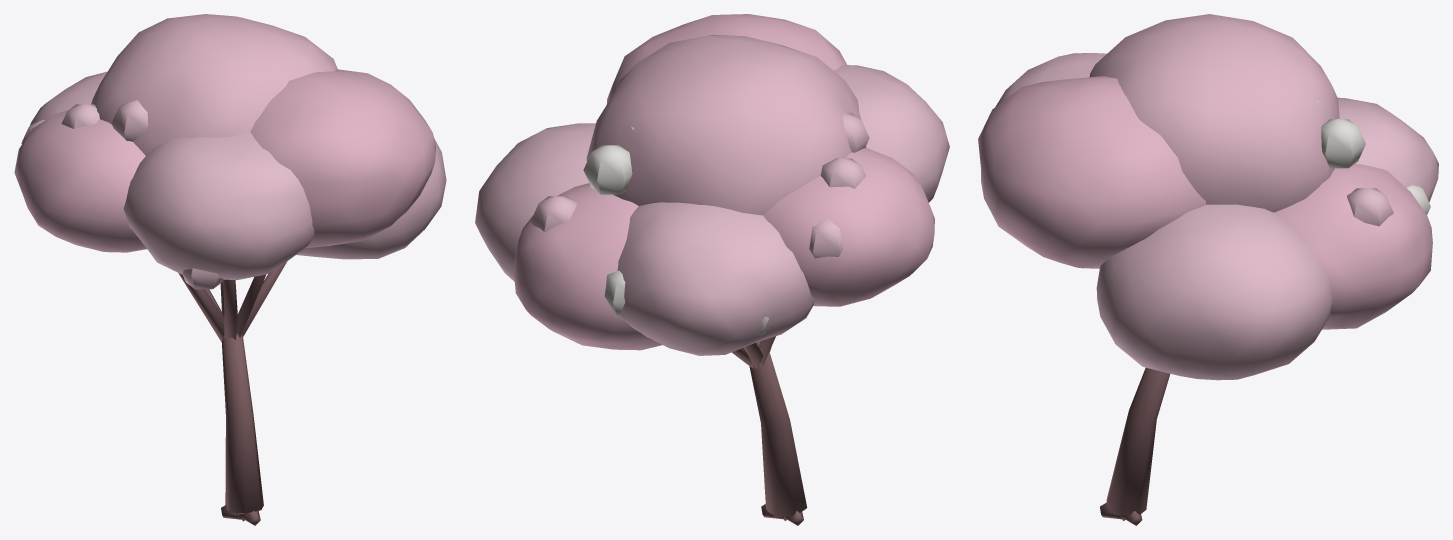
Rendered from cherry_blossom_b2.glb.
The picture shows the model from 3 angles, left to right: view 1: azimuth 30°, elevation 25°; view 2: azimuth 150°, elevation 25°; view 3: azimuth 270°, elevation 25°; orthographic projection. The views are drawn at different scales.
Parts seen in each view (by area): view 1: cherry_blossom_b2; view 2: cherry_blossom_b2; view 3: cherry_blossom_b2.
Part boxes in pixels (left/top/right/bottom): cherry_blossom_b2: left=14, top=14, right=446, bottom=525; cherry_blossom_b2: left=475, top=14, right=949, bottom=525; cherry_blossom_b2: left=978, top=14, right=1438, bottom=525.
Size of what is drawn, in the model's own units: 6.31 by 7 by 5.95.
